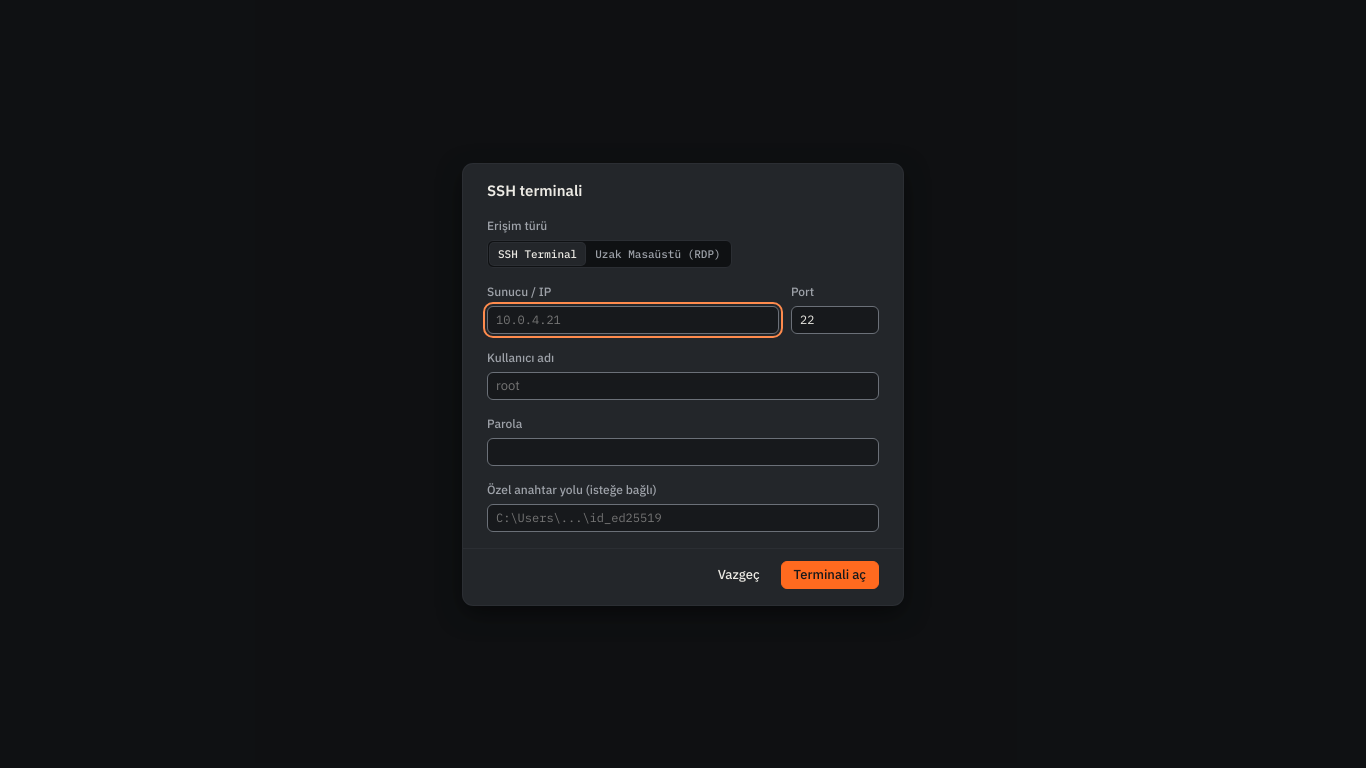
Test case: RemoteAccessModal › switches to RDP mode and defaults port to 3389
Click the radio button labelled "Uzak Masaüstü (RDP)": (658, 254) x1=587 y1=242 x2=729 y2=264
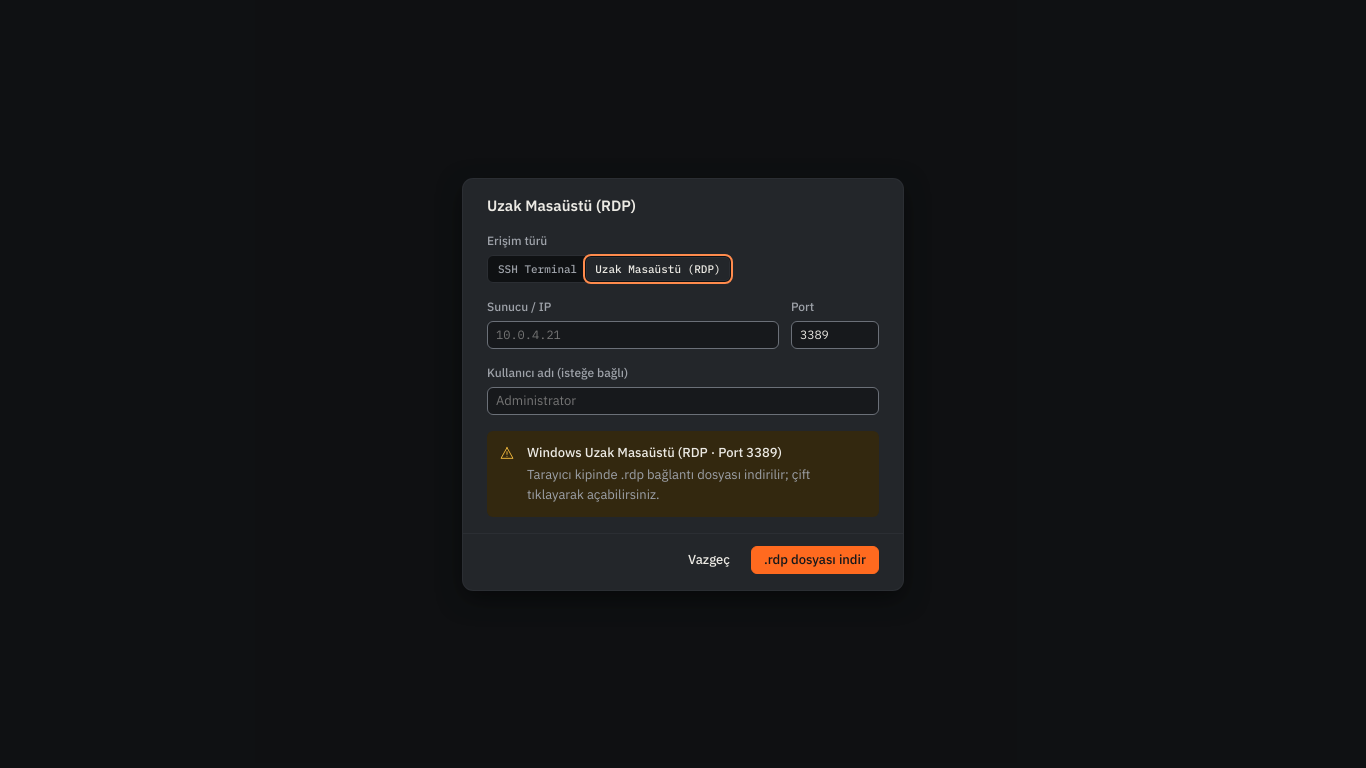
Expected: the field labelled "Port" holds "3389", x1=791 y1=320 x2=879 y2=348
